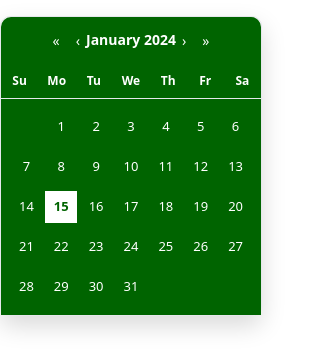
Test: Calendar Component › navigates to next month
Click the button "›" at (184, 40), box x1=176 y1=29 x2=192 y2=52
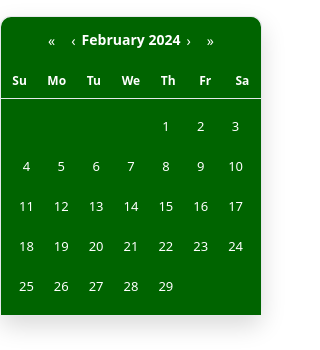
Check: the text "February 2024" is shown, box x1=82 y1=29 x2=180 y2=52
